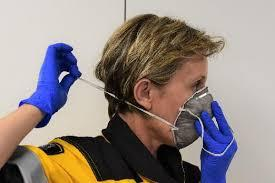gloves: (18, 42, 81, 129), (194, 101, 239, 183)
